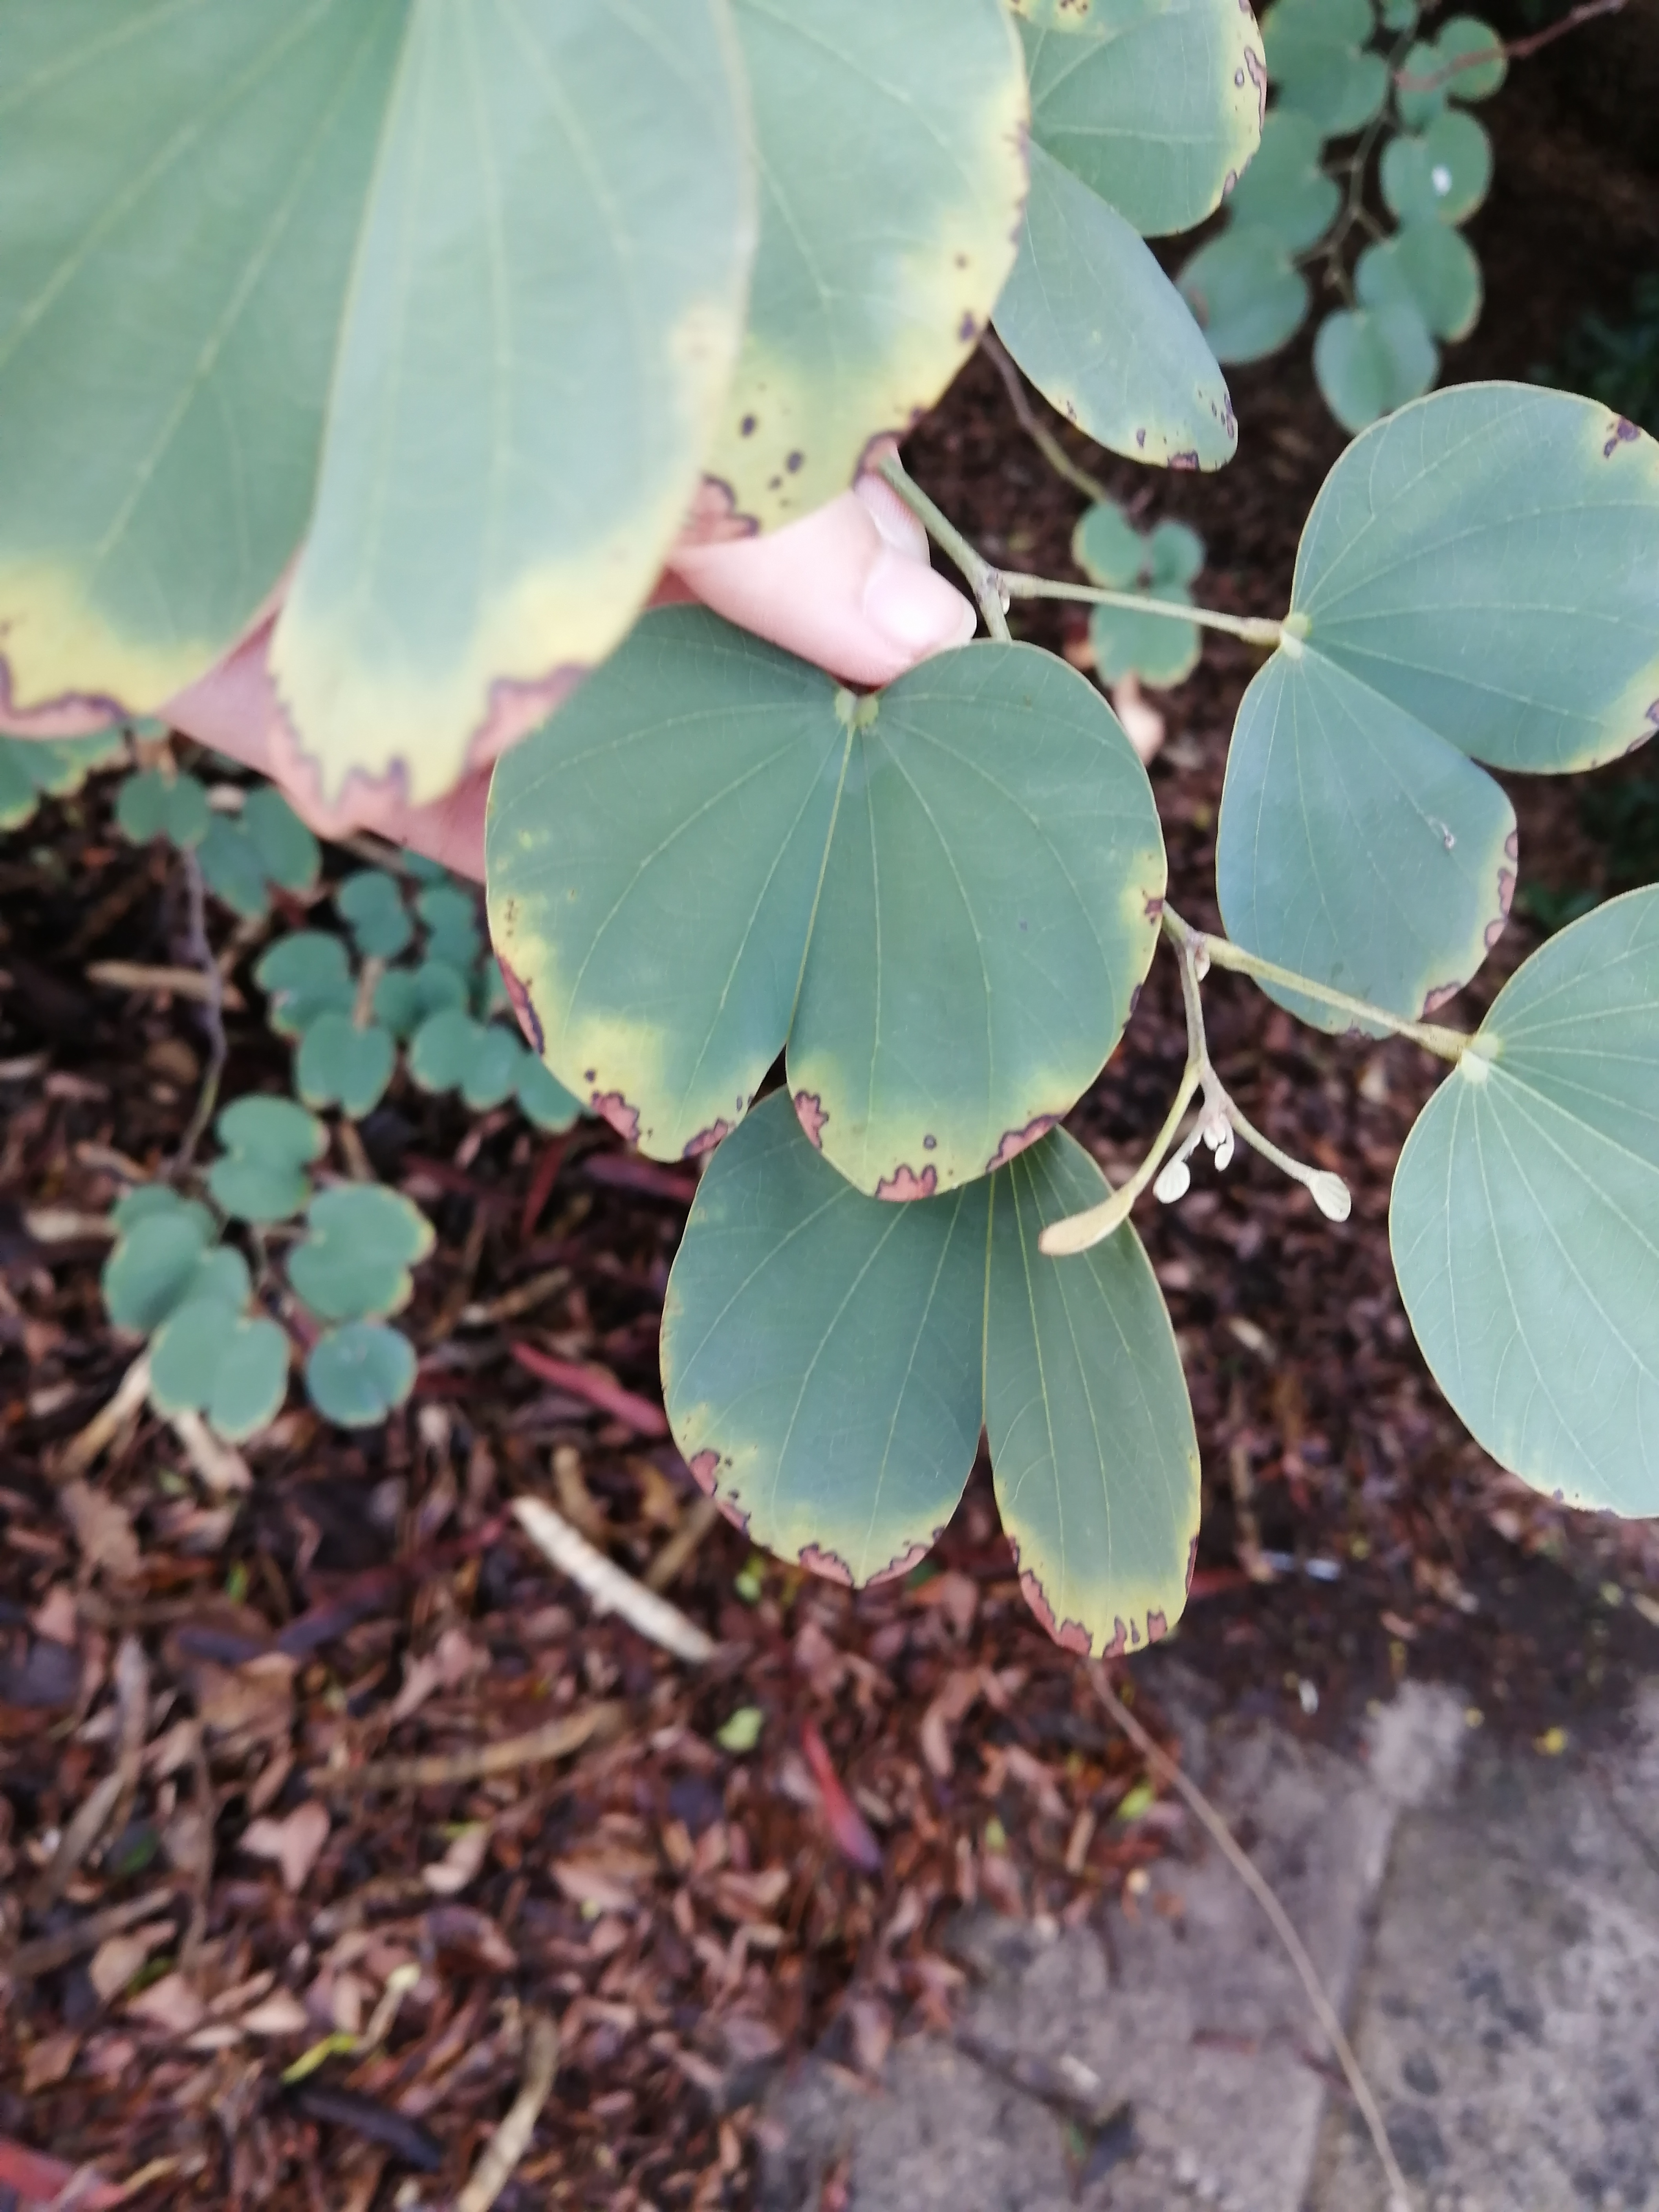nothealthy: (448, 502, 1175, 1195), (563, 1075, 1288, 1695), (1182, 296, 1659, 1087)
